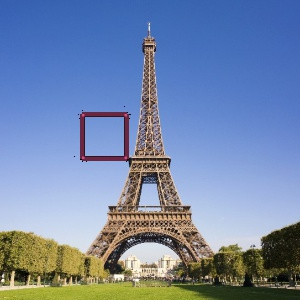square: (79, 111, 130, 162)
